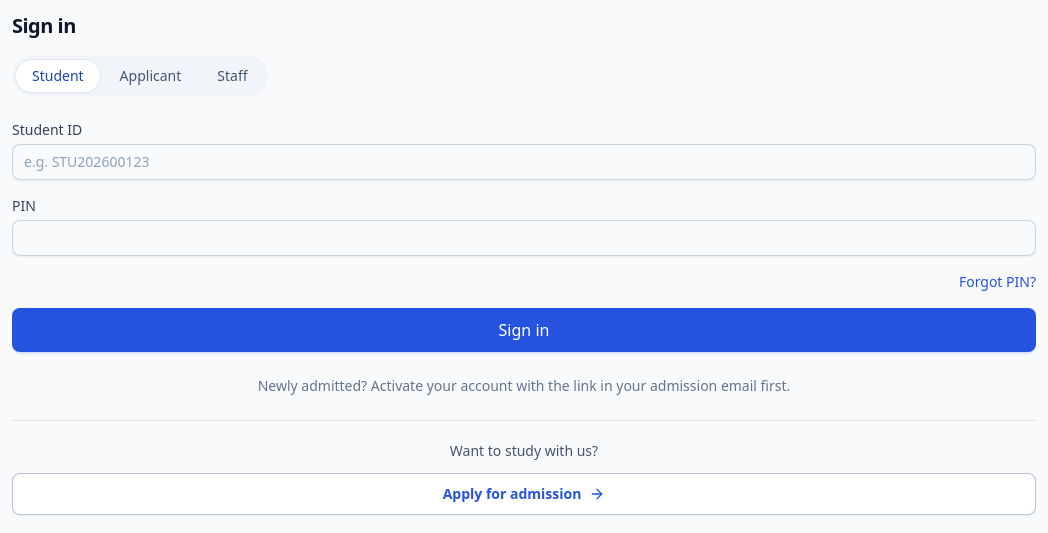
Test case: Login footer › tells newly admitted students to activate their account first, on the student tab only
Expected: the text "Newly admitted? Activate your account" is shown, [258,376,790,395]
Click the tab "Applicant".
click(150, 76)  # box [104,60,197,92]
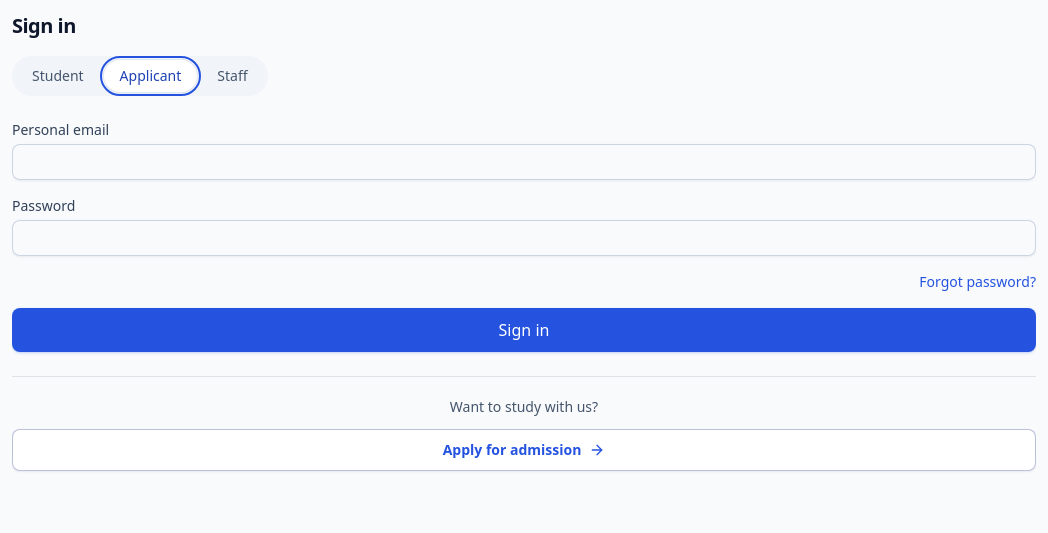
Now the text "Newly admitted" is gone
